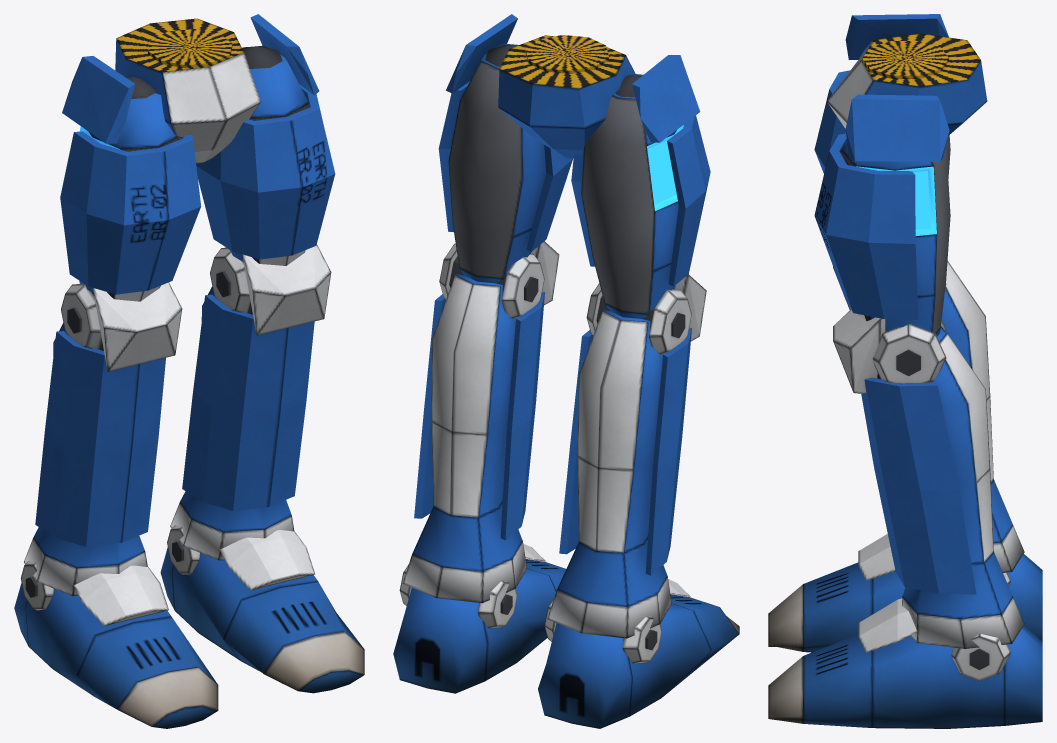
File: ArmorLegsX.glb
The picture shows the model from 3 angles, left to right: view 1: azimuth 30°, elevation 25°; view 2: azimuth 150°, elevation 25°; view 3: azimuth 270°, elevation 25°; orthographic projection.
Parts seen in each view (by area): view 1: ArmorLegsX_ShinL, ArmorLegsX_ShinR, ArmorLegsX_ThighL, ArmorLegsX_FootL, ArmorLegsX_FootR, ArmorLegsX_Pelvis, ArmorLegsX_ThighR; view 2: ArmorLegsX_ShinL, ArmorLegsX_ShinR, ArmorLegsX_ThighL, ArmorLegsX_ThighR, ArmorLegsX_Pelvis, ArmorLegsX_FootL, ArmorLegsX_FootR; view 3: ArmorLegsX_ShinR, ArmorLegsX_FootR, ArmorLegsX_ThighR, ArmorLegsX_Pelvis, ArmorLegsX_FootL, ArmorLegsX_ShinL, ArmorLegsX_ThighL.
Boxes of the visible parts, x1,y1,x2,y2 form: ArmorLegsX_ShinL: [24, 282, 182, 596]; ArmorLegsX_ShinR: [170, 244, 331, 560]; ArmorLegsX_ThighL: [60, 77, 201, 301]; ArmorLegsX_FootL: [14, 561, 218, 728]; ArmorLegsX_FootR: [160, 525, 364, 693]; ArmorLegsX_Pelvis: [62, 14, 319, 163]; ArmorLegsX_ThighR: [196, 45, 335, 265]; ArmorLegsX_ShinL: [547, 274, 706, 638]; ArmorLegsX_ShinR: [402, 241, 559, 603]; ArmorLegsX_ThighL: [571, 73, 710, 318]; ArmorLegsX_ThighR: [438, 43, 573, 283]; ArmorLegsX_Pelvis: [446, 14, 700, 158]; ArmorLegsX_FootL: [538, 579, 739, 728]; ArmorLegsX_FootR: [393, 543, 566, 693]; ArmorLegsX_ShinR: [833, 309, 1024, 648]; ArmorLegsX_FootR: [768, 598, 1042, 728]; ArmorLegsX_ThighR: [814, 133, 950, 336]; ArmorLegsX_Pelvis: [827, 14, 987, 161]; ArmorLegsX_FootL: [768, 533, 1042, 652]; ArmorLegsX_ShinL: [833, 261, 1024, 572]; ArmorLegsX_ThighL: [814, 41, 950, 178].
Bounding box in the file's own units: 9.56 × 21.56 × 8.7.
Materials: 6 (5 with a texture image).
